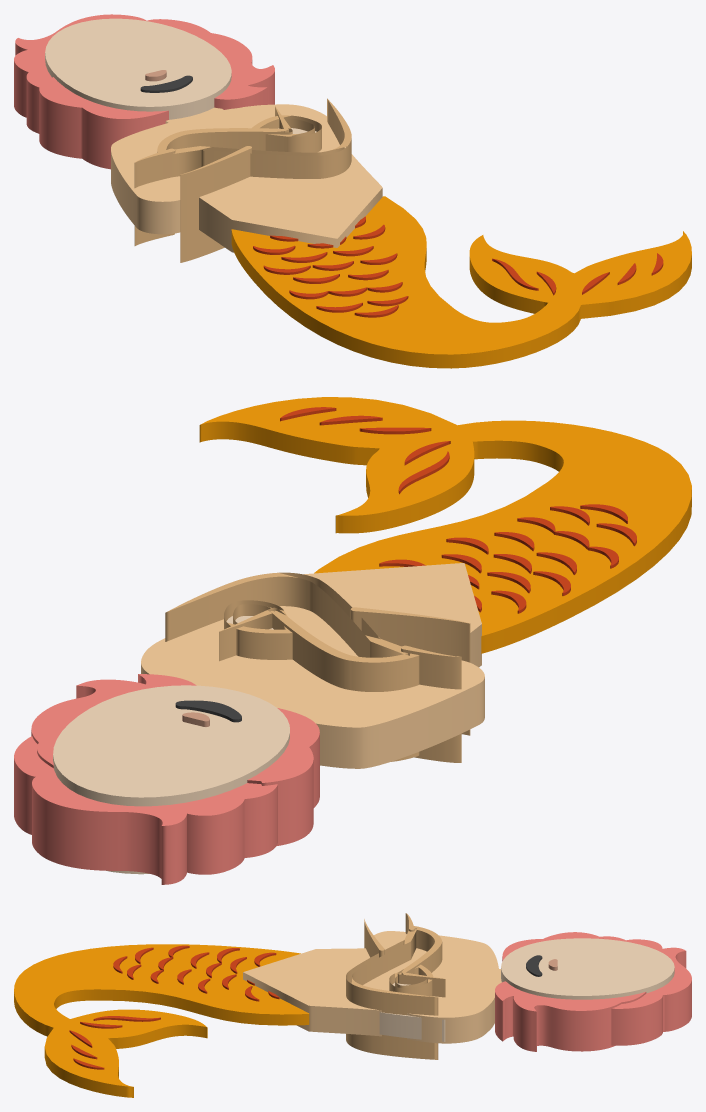
The model's file is emoji_u1f9dc_1f3fb.glb.
3 renders of one model, top to bottom at view 1: azimuth 30°, elevation 25°; view 2: azimuth 150°, elevation 25°; view 3: azimuth 270°, elevation 25°, orthographic. The views are drawn at different scales.
Visible parts, largest first — view 1: emoji_u1f9dc_1f3fb; view 2: emoji_u1f9dc_1f3fb; view 3: emoji_u1f9dc_1f3fb.
Part boxes in pixels (x1,y1,x2,y2): emoji_u1f9dc_1f3fb: (14,14,691,368); emoji_u1f9dc_1f3fb: (14,397,691,884); emoji_u1f9dc_1f3fb: (14,913,691,1097).
Size of the model in its own units: 0.0173 by 0.0038 by 0.0333.
